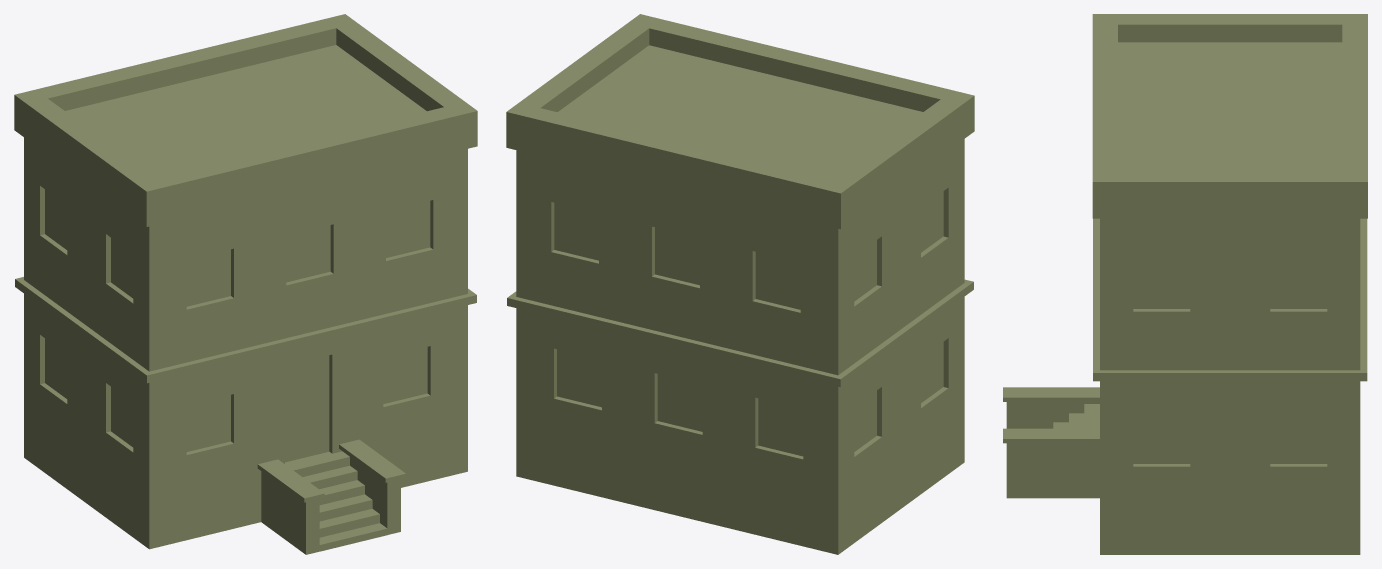
The model's file is Building2.fbx.
The picture shows the model from 3 angles, left to right: view 1: azimuth 30°, elevation 25°; view 2: azimuth 150°, elevation 25°; view 3: azimuth 270°, elevation 25°; orthographic projection. The views are drawn at different scales.
Parts seen in each view (by area): view 1: Cube.008; view 2: Cube.008; view 3: Cube.008.
Boxes of the visible parts, x1,y1,x2,y2 form: Cube.008: (14,14,477,554); Cube.008: (506,14,974,554); Cube.008: (1003,14,1367,554).
Bounding box in the file's own units: 977 × 1020 × 897.
